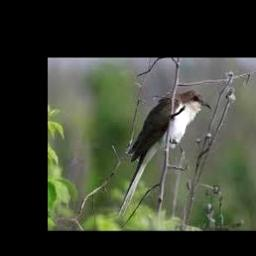Cuckoo: (117, 89, 211, 219)
